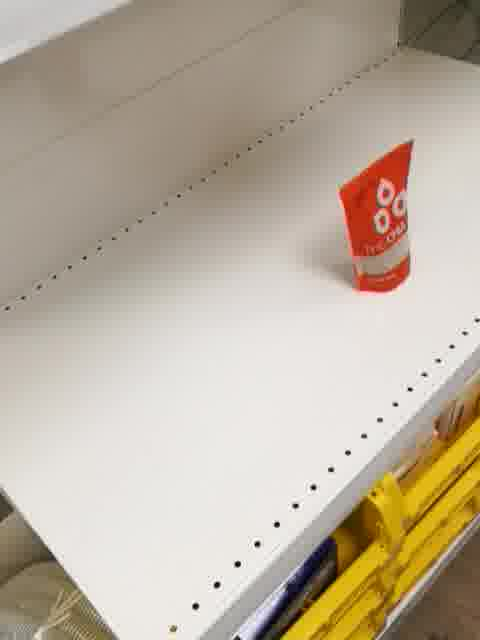whitechia: (336, 136, 419, 295)
